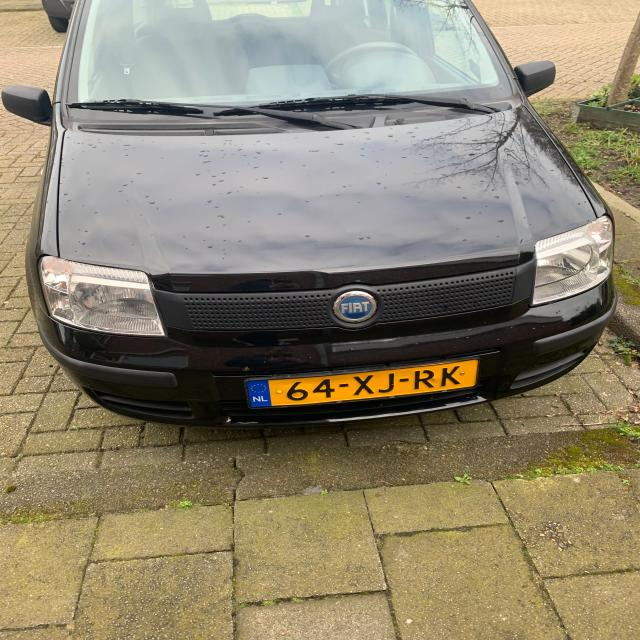plate: (242, 358, 480, 408)
